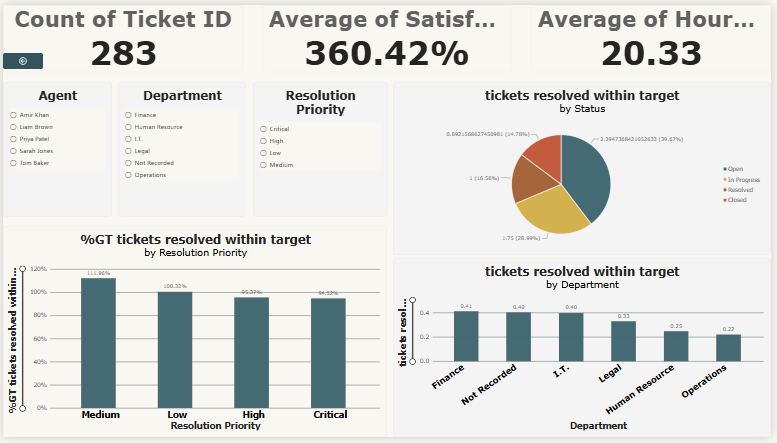

The dashboard page shown, as its layout file describes it:
{"tool":"powerbi","page":{"name":"Page 1","canvas":[1920,1080],"ordinal":0},"visuals":[{"type":"cardVisual","fields":{"Data":["Count(helpdesk_tickets_messy.Ticket ID)"]},"box":[0,0,600,168],"z":0},{"type":"cardVisual","fields":{"Data":["Avg(helpdesk_tickets_messy.Satisfaction (1-5))"]},"box":[648,0,624,168],"z":1},{"type":"cardVisual","fields":{"Data":["Avg(helpdesk_tickets_messy.Hours To Resolve)"]},"box":[1320,0,600,168],"z":2},{"type":"clusteredColumnChart","fields":{"Y":["helpdesk_tickets_messy.tickets resolved within target"],"Category":["helpdesk_tickets_messy.Resolution Priority"]},"box":[0,552,960,528],"z":3},{"type":"pieChart","fields":{"Y":["helpdesk_tickets_messy.tickets resolved within target"],"Category":["helpdesk_tickets_messy.Status"]},"box":[976,192,944,432],"z":4},{"type":"listSlicer","fields":{"Values":["helpdesk_tickets_messy.Agent"]},"box":[0,192,272,336],"z":5},{"type":"listSlicer","fields":{"Values":["helpdesk_tickets_messy.Department"]},"box":[288,192,320,336],"z":6},{"type":"listSlicer","fields":{"Values":["helpdesk_tickets_messy.Resolution Priority"]},"box":[624,192,336,336],"z":7},{"type":"actionButton","box":[0,0,100,40],"z":9},{"type":"clusteredColumnChart","fields":{"Category":["helpdesk_tickets_messy.Department"],"Y":["helpdesk_tickets_messy.tickets resolved within target"]},"box":[976,632,944,448],"z":10}]}

Visuals, with their boxes in screenshot pixels (x1, y1, x2, y2), scaled from the page's 1920x1080 canvas onto the 777x443 screenshot:
cardVisual - Count(helpdesk_tickets_messy.Ticket ID): [x1=0, y1=0, x2=243, y2=69]
cardVisual - Avg(helpdesk_tickets_messy.Satisfaction (1-5)): [x1=262, y1=0, x2=515, y2=69]
cardVisual - Avg(helpdesk_tickets_messy.Hours To Resolve): [x1=534, y1=0, x2=776, y2=69]
clusteredColumnChart - helpdesk_tickets_messy.tickets resolved within target x helpdesk_tickets_messy.Resolution Priority: [x1=0, y1=226, x2=388, y2=442]
pieChart - helpdesk_tickets_messy.tickets resolved within target x helpdesk_tickets_messy.Status: [x1=395, y1=79, x2=776, y2=256]
listSlicer - helpdesk_tickets_messy.Agent: [x1=0, y1=79, x2=110, y2=217]
listSlicer - helpdesk_tickets_messy.Department: [x1=117, y1=79, x2=246, y2=217]
listSlicer - helpdesk_tickets_messy.Resolution Priority: [x1=253, y1=79, x2=388, y2=217]
actionButton: [x1=0, y1=0, x2=40, y2=16]
clusteredColumnChart - helpdesk_tickets_messy.Department x helpdesk_tickets_messy.tickets resolved within target: [x1=395, y1=259, x2=776, y2=442]
